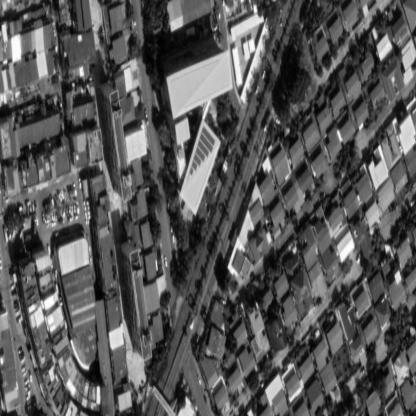solar-pv-panel: (189, 126, 215, 176)
